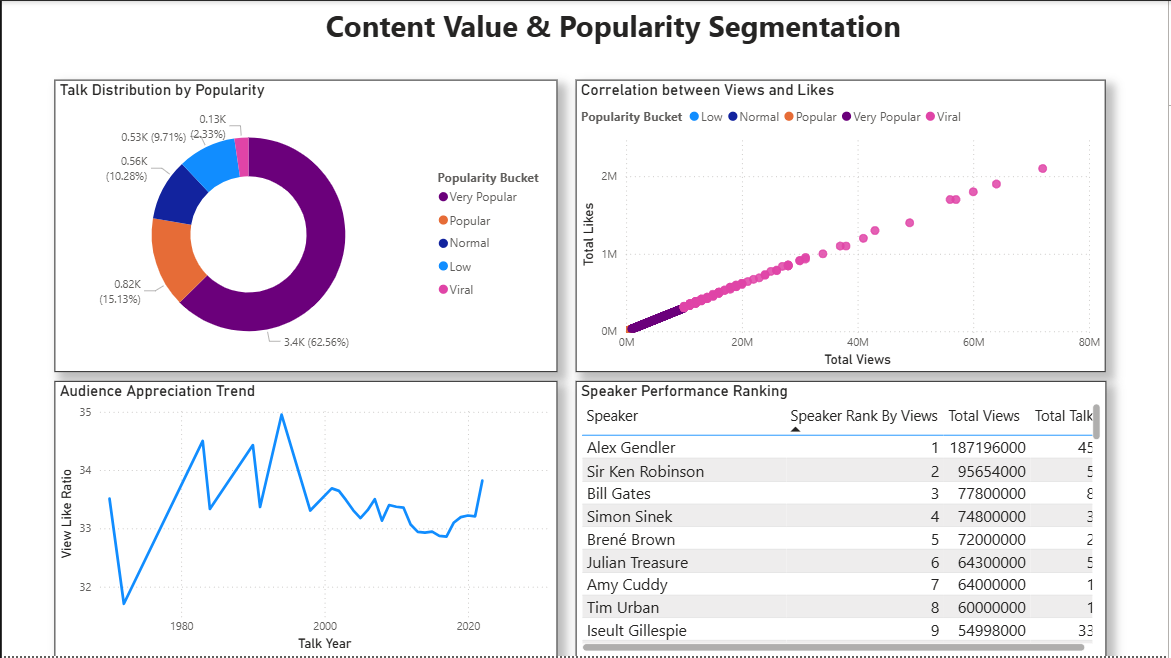

Layout of this report page (visuals, bound fields, positions):
{"tool":"powerbi","page":{"name":"ENGAGEMENT QUALITY ANALYSIS","canvas":[1280,720],"ordinal":2},"visuals":[{"type":"textbox","box":[333.4,0,675.1,67.2],"z":0},{"type":"donutChart","title":"Talk Distribution by Popularity","fields":{"Category":["VW_TED_TALKS_ENRICHED.popularity_bucket"],"Y":["CountNonNull(VW_TED_TALKS_ENRICHED.ted_talks_title)"]},"box":[57.6,86.4,551.6,321.1],"z":1},{"type":"scatterChart","title":"Correlation between Views and Likes","fields":{"X":["VW_TED_TALKS_ENRICHED.total_views"],"Y":["VW_TED_TALKS_ENRICHED.total_likes"],"Series":["VW_TED_TALKS_ENRICHED.popularity_bucket"]},"box":[629.8,86.4,581.8,321.1],"z":2},{"type":"lineChart","title":"Audience Appreciation Trend","fields":{"Category":["VW_TED_TALKS_ENRICHED.talk_year"],"Y":["Avg(VW_TED_TALKS_ENRICHED.view_like_ratio)"]},"box":[58,417,552,303],"z":3},{"type":"tableEx","title":"Speaker Performance Ranking","fields":{"Values":["VW_TED_TALKS_ENRICHED.speaker","VW_TED_TALKS_ENRICHED.speaker_rank_by_views","VW_TED_TALKS_ENRICHED.speaker_total_views","VW_TED_TALKS_ENRICHED.speaker_talk_count"]},"box":[630,417,582,303],"z":4}]}

Visuals, with their boxes in screenshot pixels (x1, y1, x2, y2), scaled from the page's 1280x720 canvas onto the 1171x658 screenshot:
textbox: [left=305, top=0, right=923, bottom=61]
"Talk Distribution by Popularity" donutChart: [left=53, top=79, right=557, bottom=372]
"Correlation between Views and Likes" scatterChart: [left=576, top=79, right=1108, bottom=372]
"Audience Appreciation Trend" lineChart: [left=53, top=381, right=558, bottom=657]
"Speaker Performance Ranking" tableEx: [left=576, top=381, right=1109, bottom=657]
